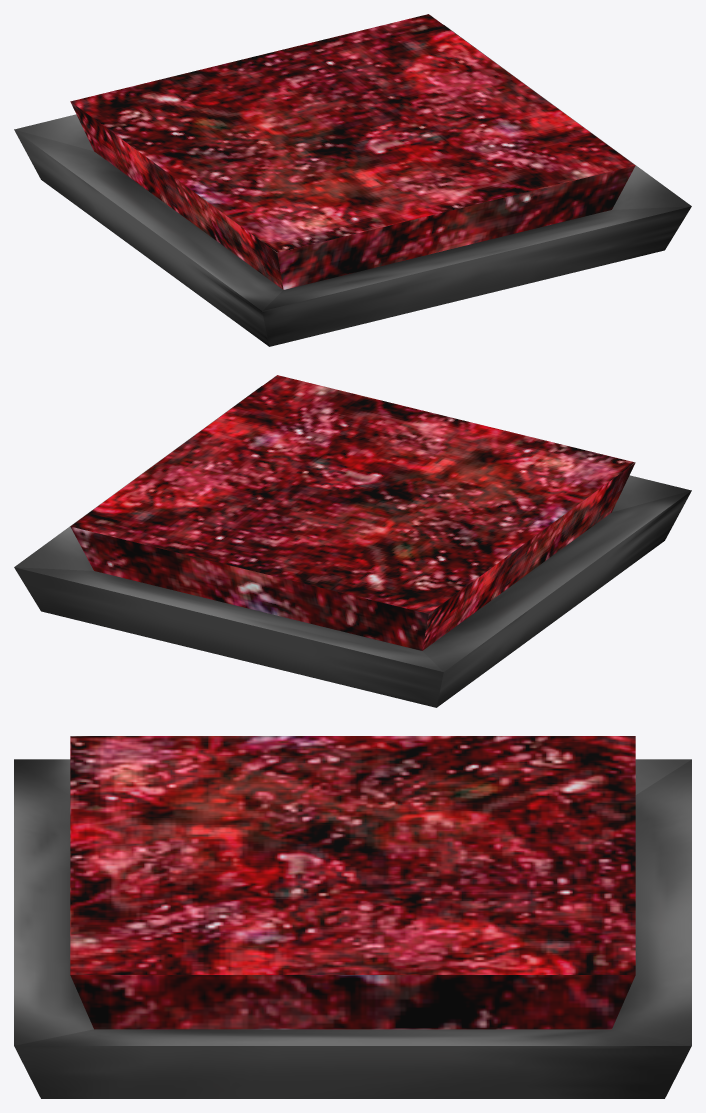
File: jumpPad.glb
3 views of the same model, one above another, from view 1: azimuth 30°, elevation 25°; view 2: azimuth 150°, elevation 25°; view 3: azimuth 270°, elevation 25° (orthographic). The views are drawn at different scales.
Visible parts, largest first — view 1: Cube; view 2: Cube; view 3: Cube.
Part boxes in pixels (left/top/right/bottom): Cube: left=14, top=14, right=691, bottom=346; Cube: left=14, top=375, right=691, bottom=707; Cube: left=14, top=736, right=691, bottom=1098.
Size of the model in its own units: 2.17 by 0.3941 by 2.17.
Materials: 2 (2 with a texture image).
